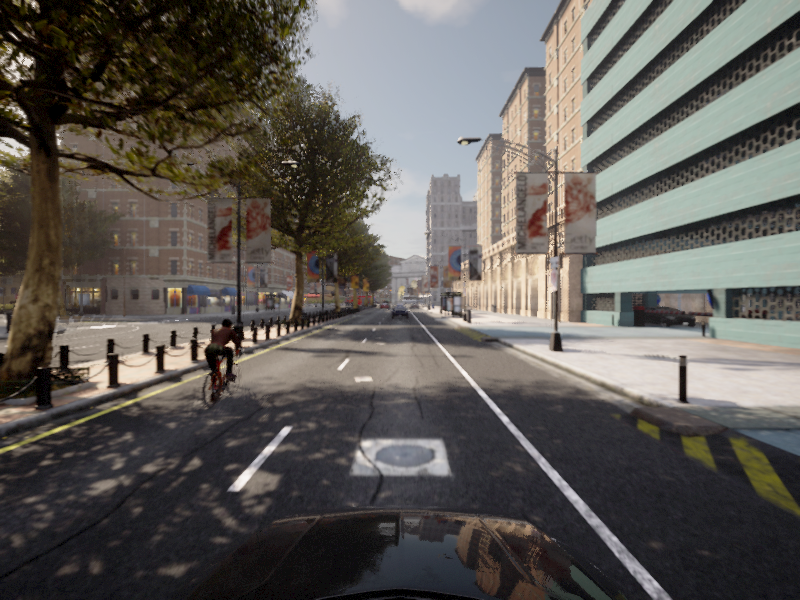vehicle: (1, 1, 799, 458), (186, 317, 253, 412), (391, 305, 408, 318), (296, 303, 307, 317)
